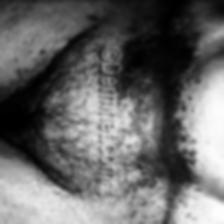Toxin: (126, 19, 202, 224)
